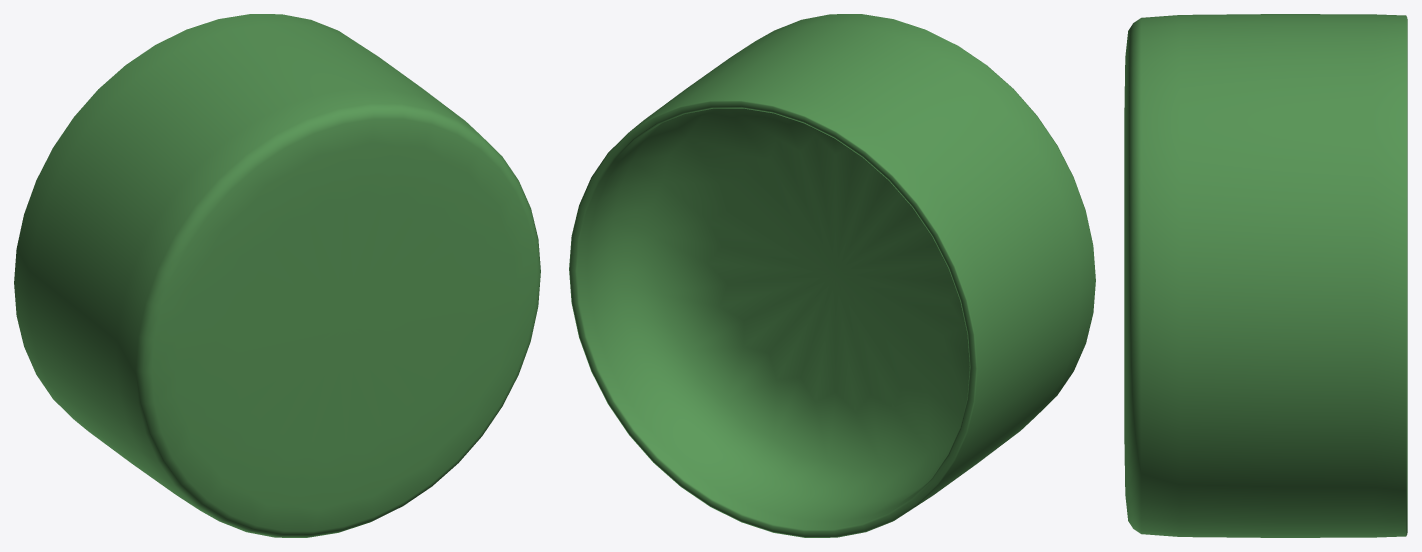
3 views of the same model, side by side, from view 1: azimuth 30°, elevation 25°; view 2: azimuth 150°, elevation 25°; view 3: azimuth 270°, elevation 25° (orthographic). The views are drawn at different scales.
Bounding box in the file's own units: 0.2138 × 0.2138 × 0.1156.
